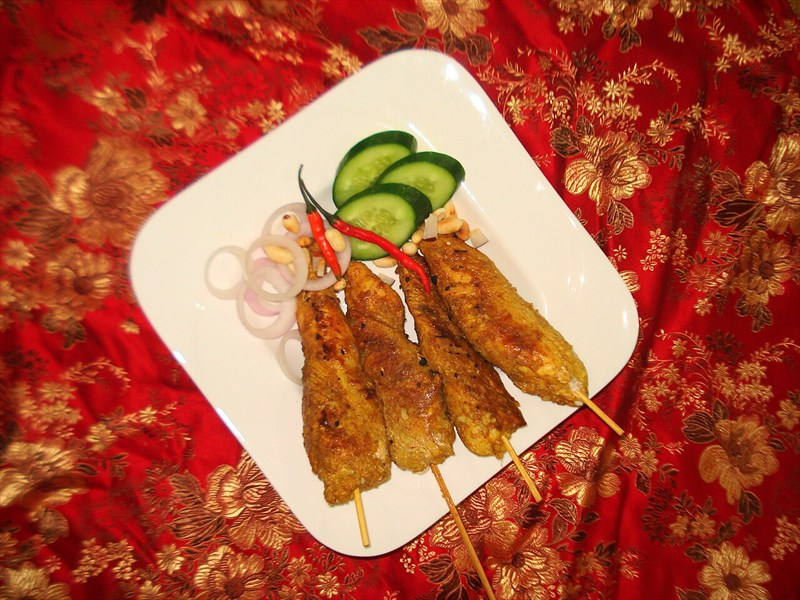Sate Ayam: (127, 74, 643, 531)
